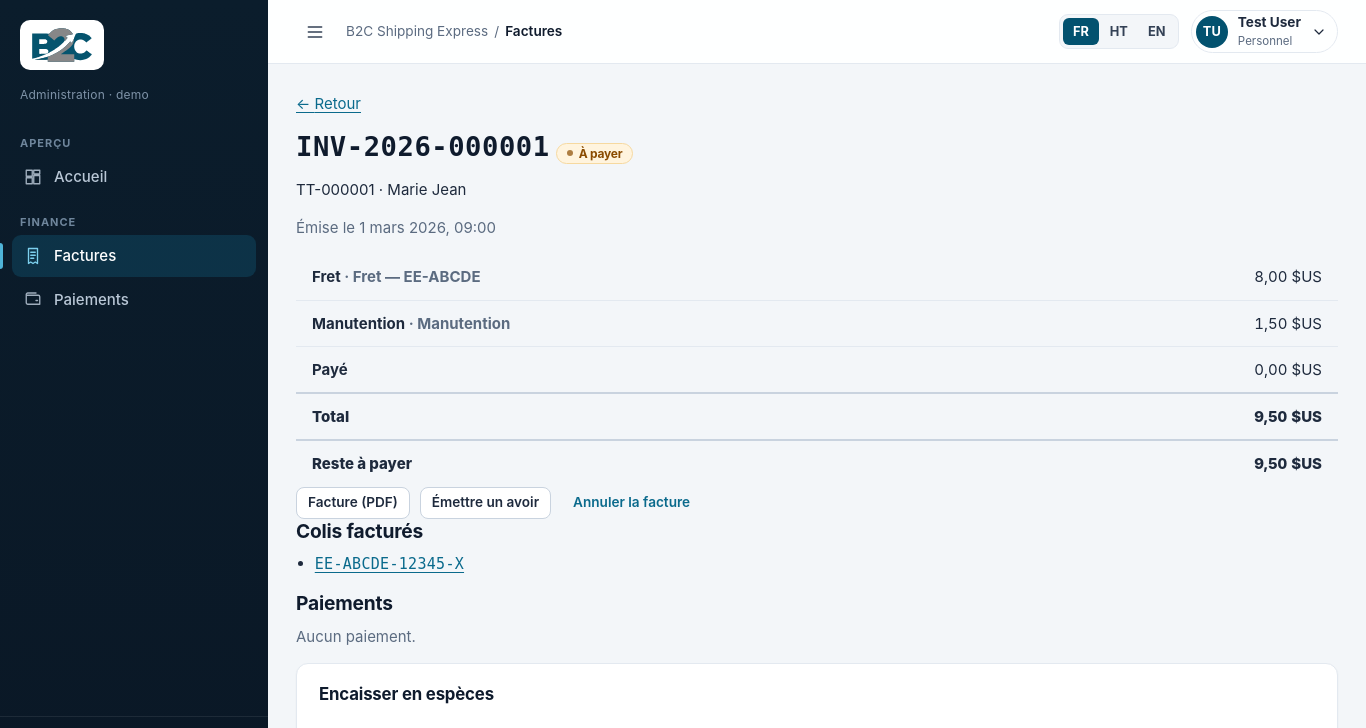
factures (personnel) › avoir : montant et motif contrôlés puis envoyés ; refus du serveur expliqué
The image size is (1366, 728).
Click the button "Émettre un avoir" at x=486, y=503, box left=420, top=487, right=551, bottom=519
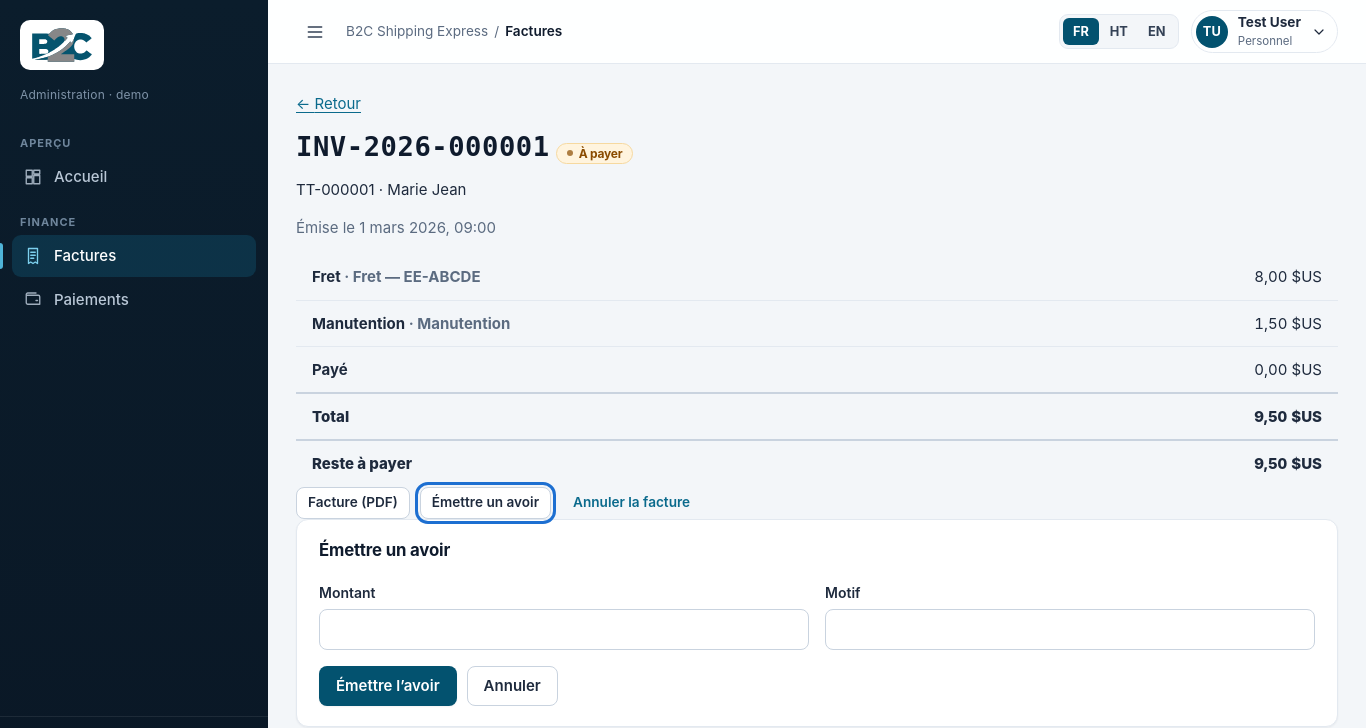
Type "20" into the field labelled "Montant" at x=564, y=630, box left=319, top=609, right=809, bottom=650
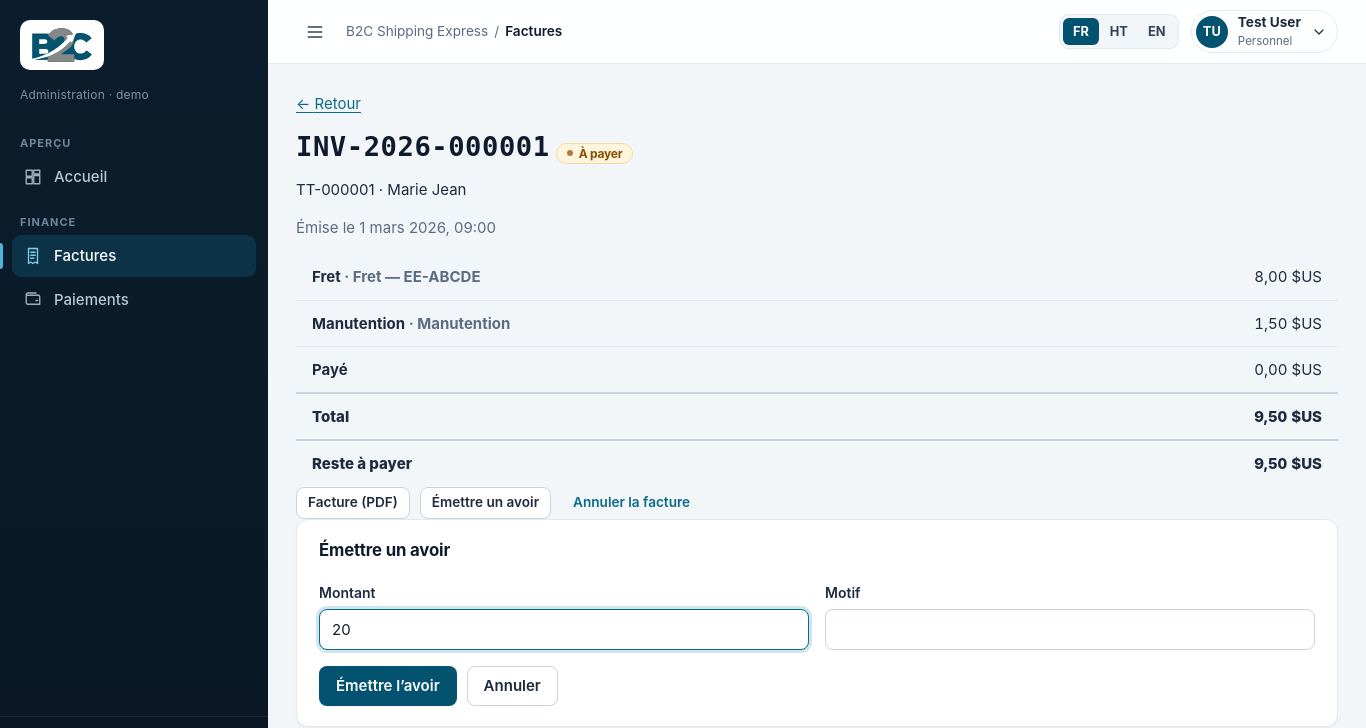
Type "Geste commercial" into the field labelled "Motif" at x=1070, y=630, box left=825, top=609, right=1315, bottom=650
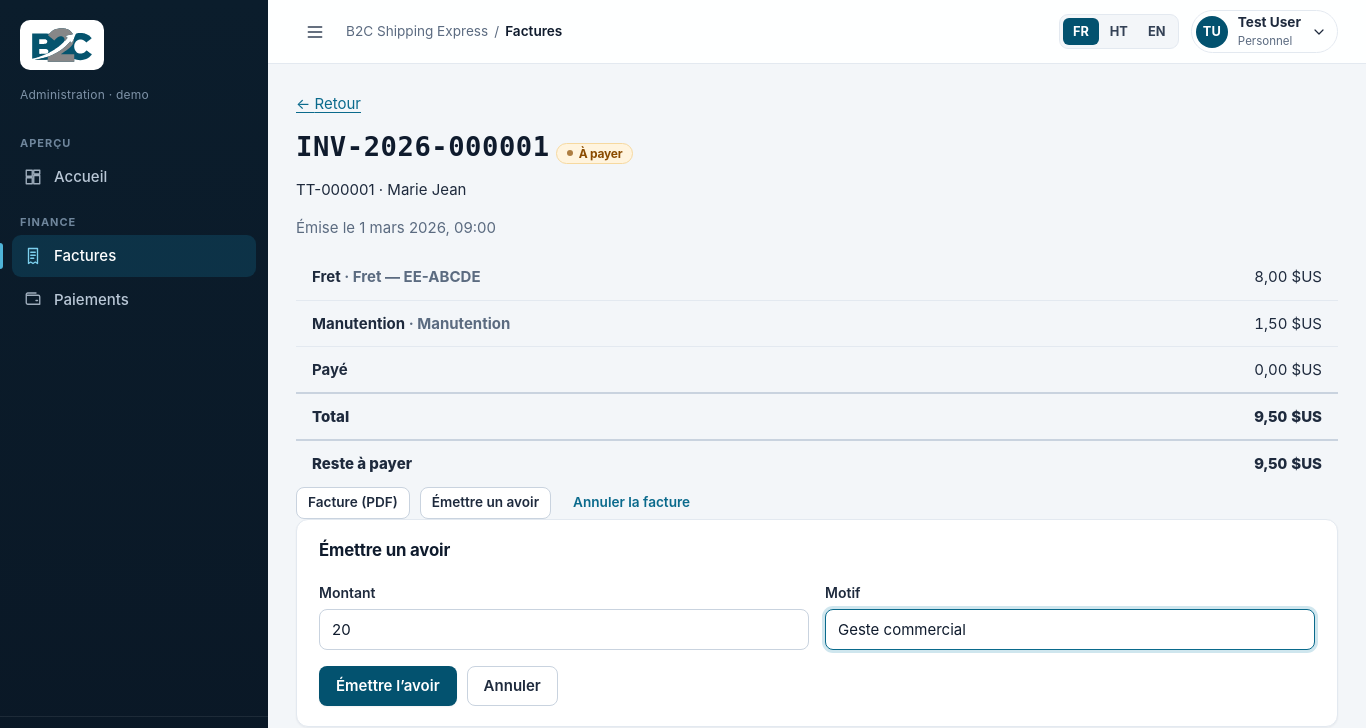
Click the button "Émettre l’avoir" at x=388, y=686, box left=319, top=666, right=457, bottom=706
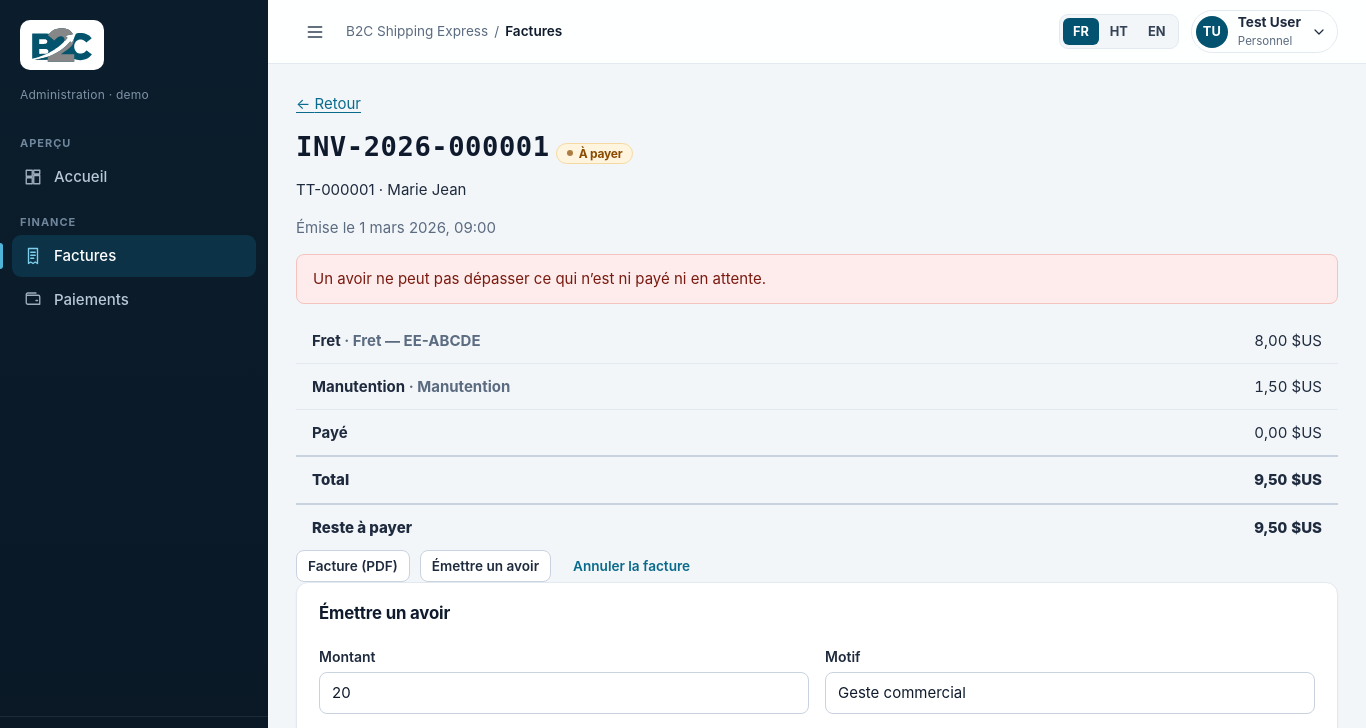
Result: the text "Un avoir ne peut pas dépasser ce qui n’est ni payé ni en attente." is shown at left=313, top=267, right=766, bottom=291
